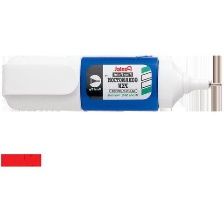correction_fluid: (0, 55, 224, 113)
